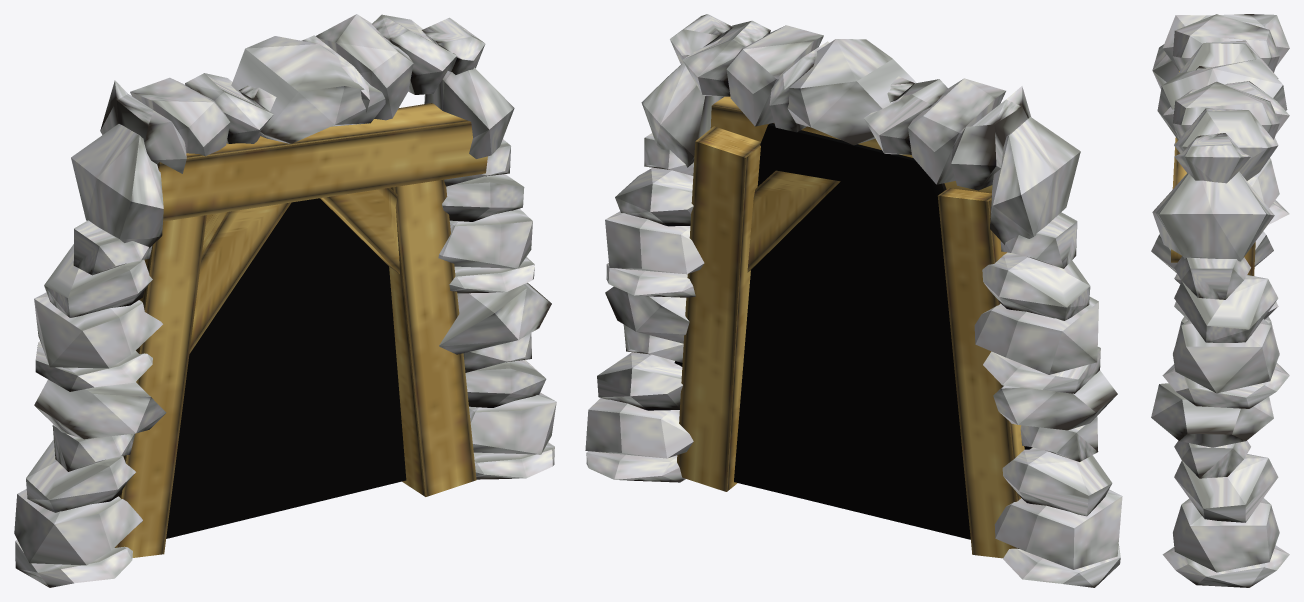
File: Poly_World_Map_Entrance_03.obj
3 renders of one model, left to right at view 1: azimuth 30°, elevation 25°; view 2: azimuth 150°, elevation 25°; view 3: azimuth 270°, elevation 25°, orthographic. The views are drawn at different scales.
Parts seen in each view (by area): view 1: Grid.008, Grid.005, Grid.006, Grid.001, Grid.004, Grid.003, Grid.009, Grid.007, Grid.012, Grid.002, Grid.011, Grid.013 (+1 smaller); view 2: Grid.008, Grid.005, Grid.004, Grid.001, Grid.003, Grid.012, Grid.007, Grid.009, Grid.002, Grid.006, Grid.011, Grid.013 (+1 smaller); view 3: Grid.001, Grid.004, Grid.003, Grid.012, Grid.007, Grid.011, Grid.002, Grid.009, Grid.010, Grid.013, Grid.006, Grid.005.
Boxes of the visible parts, x1=… form: Grid.008: x1=166, y1=198, x2=406, y2=538; Grid.005: x1=114, y1=179, x2=476, y2=557; Grid.006: x1=157, y1=103, x2=487, y2=353; Grid.001: x1=34, y1=67, x2=551, y2=439; Grid.004: x1=14, y1=208, x2=556, y2=565; Grid.003: x1=26, y1=174, x2=546, y2=512; Grid.009: x1=231, y1=36, x2=385, y2=143; Grid.007: x1=15, y1=257, x2=554, y2=587; Grid.012: x1=130, y1=14, x2=413, y2=156; Grid.002: x1=52, y1=139, x2=531, y2=471; Grid.011: x1=185, y1=14, x2=456, y2=143; Grid.013: x1=100, y1=35, x2=369, y2=173; Grid.008: x1=674, y1=123, x2=1032, y2=539; Grid.005: x1=677, y1=126, x2=1024, y2=558; Grid.004: x1=585, y1=211, x2=1122, y2=569; Grid.001: x1=605, y1=63, x2=1117, y2=430; Grid.003: x1=597, y1=167, x2=1112, y2=516; Grid.012: x1=726, y1=25, x2=1005, y2=184; Grid.007: x1=586, y1=263, x2=1120, y2=587; Grid.009: x1=787, y1=39, x2=916, y2=145; Grid.002: x1=623, y1=133, x2=1098, y2=461; Grid.006: x1=710, y1=96, x2=992, y2=272; Grid.011: x1=682, y1=20, x2=947, y2=154; Grid.013: x1=769, y1=41, x2=1030, y2=190; Grid.001: x1=1151, y1=44, x2=1274, y2=447; Grid.004: x1=1173, y1=158, x2=1279, y2=572; Grid.003: x1=1174, y1=138, x2=1278, y2=522; Grid.012: x1=1172, y1=14, x2=1279, y2=139; Grid.007: x1=1162, y1=200, x2=1289, y2=587; Grid.011: x1=1174, y1=40, x2=1278, y2=180; Grid.002: x1=1174, y1=256, x2=1250, y2=478; Grid.009: x1=1157, y1=59, x2=1287, y2=140; Grid.010: x1=1174, y1=66, x2=1250, y2=183; Grid.013: x1=1162, y1=14, x2=1289, y2=135; Grid.006: x1=1171, y1=71, x2=1186, y2=262; Grid.005: x1=1244, y1=242, x2=1255, y2=275.
Bounding box in the file's own units: 0.8308 × 0.7165 × 0.2147.
Materials: 1 (1 with a texture image).
